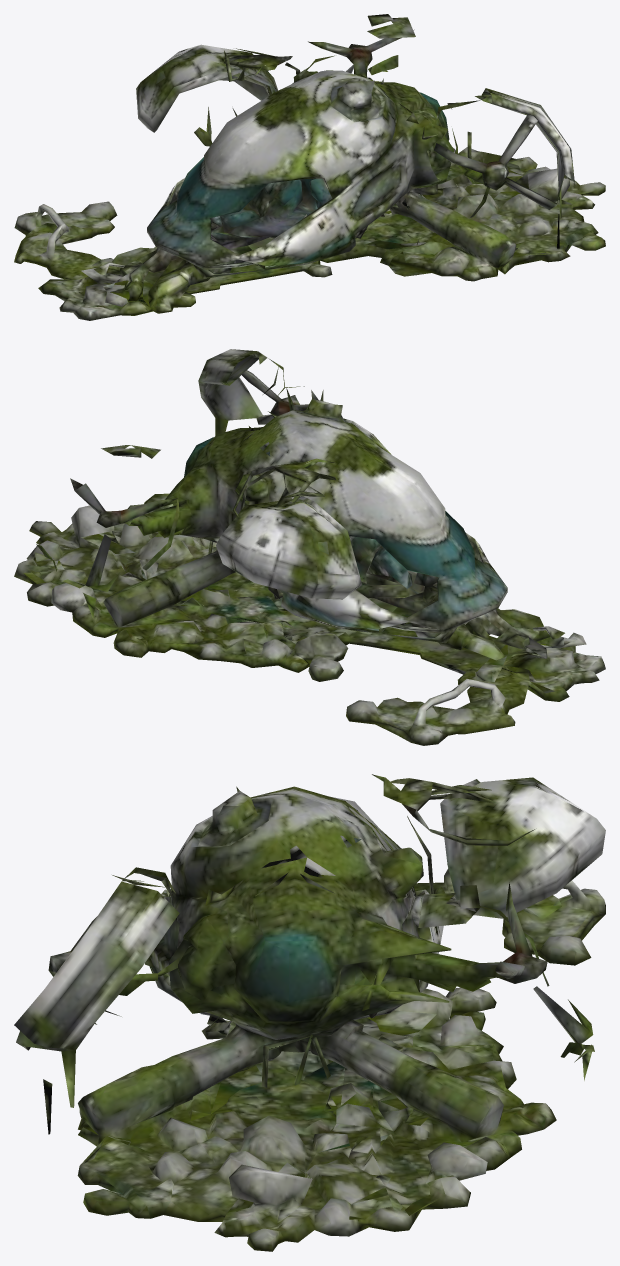
File: obj_002_rtp.glb
3 renders of one model, top to bottom at view 1: azimuth 30°, elevation 25°; view 2: azimuth 150°, elevation 25°; view 3: azimuth 270°, elevation 25°, orthographic. The views are drawn at different scales.
Parts seen in each view (by area): view 1: tripo_node_a458ae5c-85b4-4d5a-af0e-d7cec9ce1ca8; view 2: tripo_node_a458ae5c-85b4-4d5a-af0e-d7cec9ce1ca8; view 3: tripo_node_a458ae5c-85b4-4d5a-af0e-d7cec9ce1ca8.
Boxes of the visible parts, x1=… form: tripo_node_a458ae5c-85b4-4d5a-af0e-d7cec9ce1ca8: x1=14, y1=14, x2=605, y2=320; tripo_node_a458ae5c-85b4-4d5a-af0e-d7cec9ce1ca8: x1=14, y1=349, x2=605, y2=745; tripo_node_a458ae5c-85b4-4d5a-af0e-d7cec9ce1ca8: x1=14, y1=774, x2=605, y2=1251.
Size of the model in its own units: 0.9961 by 0.319 by 0.636.
Materials: 1 (1 with a texture image).
